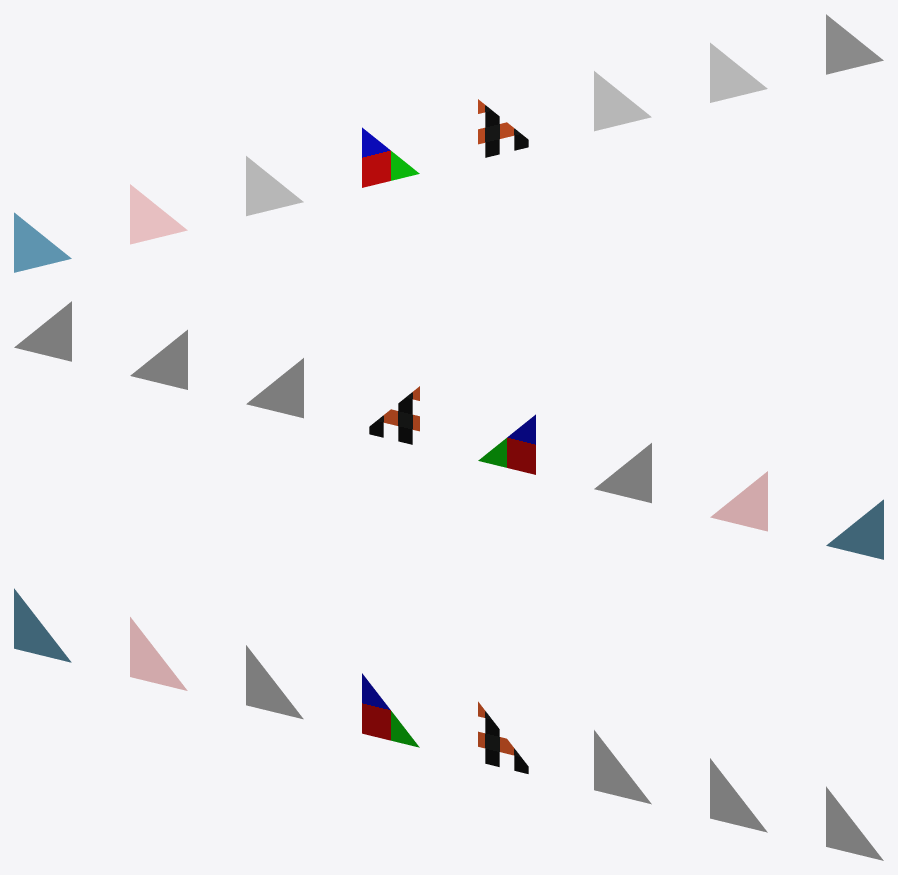
File: spec_gloss.gltf
3 views of the same model, one above another, from view 1: azimuth 30°, elevation 25°; view 2: azimuth 150°, elevation 25°; view 3: azimuth 330°, elevation 25° (orthographic).
Visible parts, largest first — view 1: Tex, Unlit, Reuse, Empty, Gloss, Plain, Spec, Mask; view 2: Tex, Unlit, Reuse, Empty, Gloss, Plain, Spec, Mask; view 3: Plain, Empty, Tex, Reuse, Unlit, Gloss, Spec, Mask.
Part boxes in pixels (x1,y1,x2,y2): Tex: (362, 127, 419, 187); Unlit: (826, 14, 883, 74); Reuse: (594, 71, 651, 131); Empty: (246, 156, 303, 216); Gloss: (710, 42, 767, 102); Plain: (14, 212, 71, 272); Spec: (130, 184, 187, 244); Mask: (478, 99, 528, 157); Tex: (478, 414, 535, 474); Unlit: (14, 301, 71, 361); Reuse: (246, 358, 303, 418); Empty: (594, 443, 651, 503); Gloss: (130, 329, 187, 389); Plain: (826, 499, 883, 559); Spec: (710, 471, 767, 531); Mask: (369, 386, 419, 444); Plain: (14, 588, 71, 662); Empty: (246, 645, 303, 719); Tex: (362, 673, 419, 747); Reuse: (594, 730, 651, 804); Unlit: (826, 786, 883, 860); Gloss: (710, 758, 767, 832); Spec: (130, 617, 187, 690); Mask: (478, 701, 528, 773).
Size of the model in its own units: 15 by 1 by 0.
8 materials, 2 textured.
